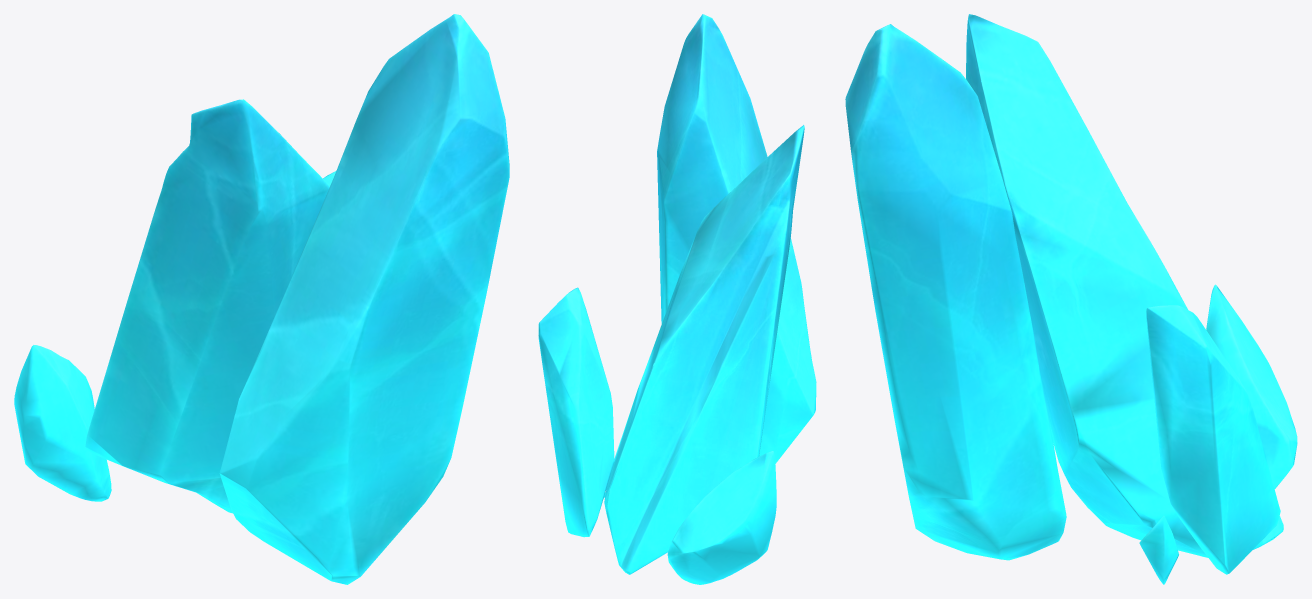
The model's file is crystal_cluster_b_far.glb.
3 views of the same model, side by side, from view 1: azimuth 30°, elevation 25°; view 2: azimuth 150°, elevation 25°; view 3: azimuth 270°, elevation 25° (orthographic). The views are drawn at different scales.
Parts seen in each view (by area): view 1: SM_CRST_STL_CrystalCluster_01B; view 2: SM_CRST_STL_CrystalCluster_01B; view 3: SM_CRST_STL_CrystalCluster_01B.
Part boxes in pixels (x1,y1,x2,y2): SM_CRST_STL_CrystalCluster_01B: [14, 14, 509, 584]; SM_CRST_STL_CrystalCluster_01B: [538, 14, 816, 584]; SM_CRST_STL_CrystalCluster_01B: [845, 14, 1297, 584].
Size of the model in its own units: 21.22 by 36.52 by 26.41.
1 material, 1 textured.
